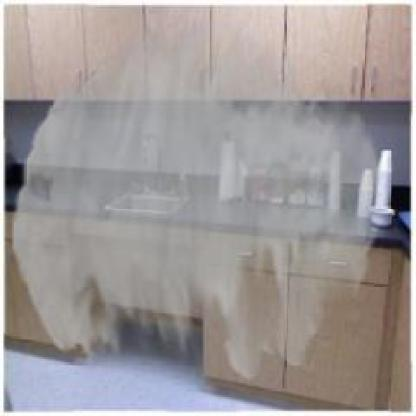Smoke: (13, 20, 382, 379)
